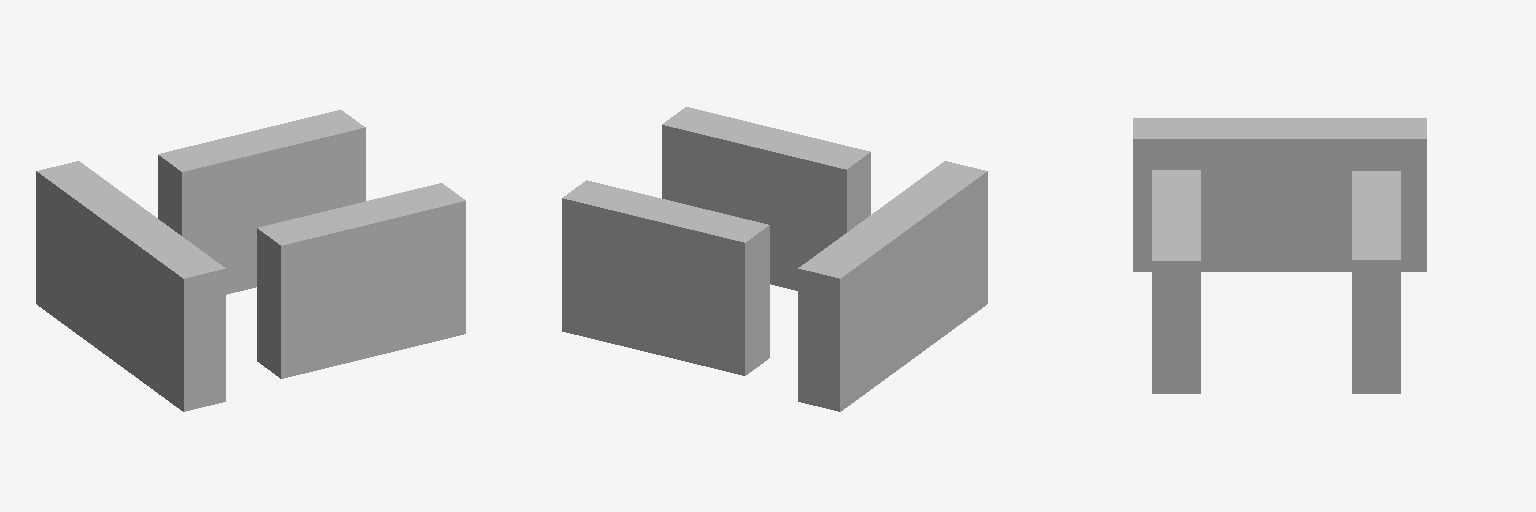
The model's file is map.obj.
3 views of the same model, side by side, from view 1: azimuth 30°, elevation 25°; view 2: azimuth 150°, elevation 25°; view 3: azimuth 270°, elevation 25° (orthographic).
Visible parts, largest first — view 1: Cube_Cube.001; view 2: Cube_Cube.001; view 3: Cube_Cube.001.
Boxes of the visible parts, <box> form: Cube_Cube.001: <box>36,110,465,411</box>; Cube_Cube.001: <box>562,107,987,411</box>; Cube_Cube.001: <box>1133,118,1426,393</box>.
Size of the model in its own units: 13.76 by 6 by 12.